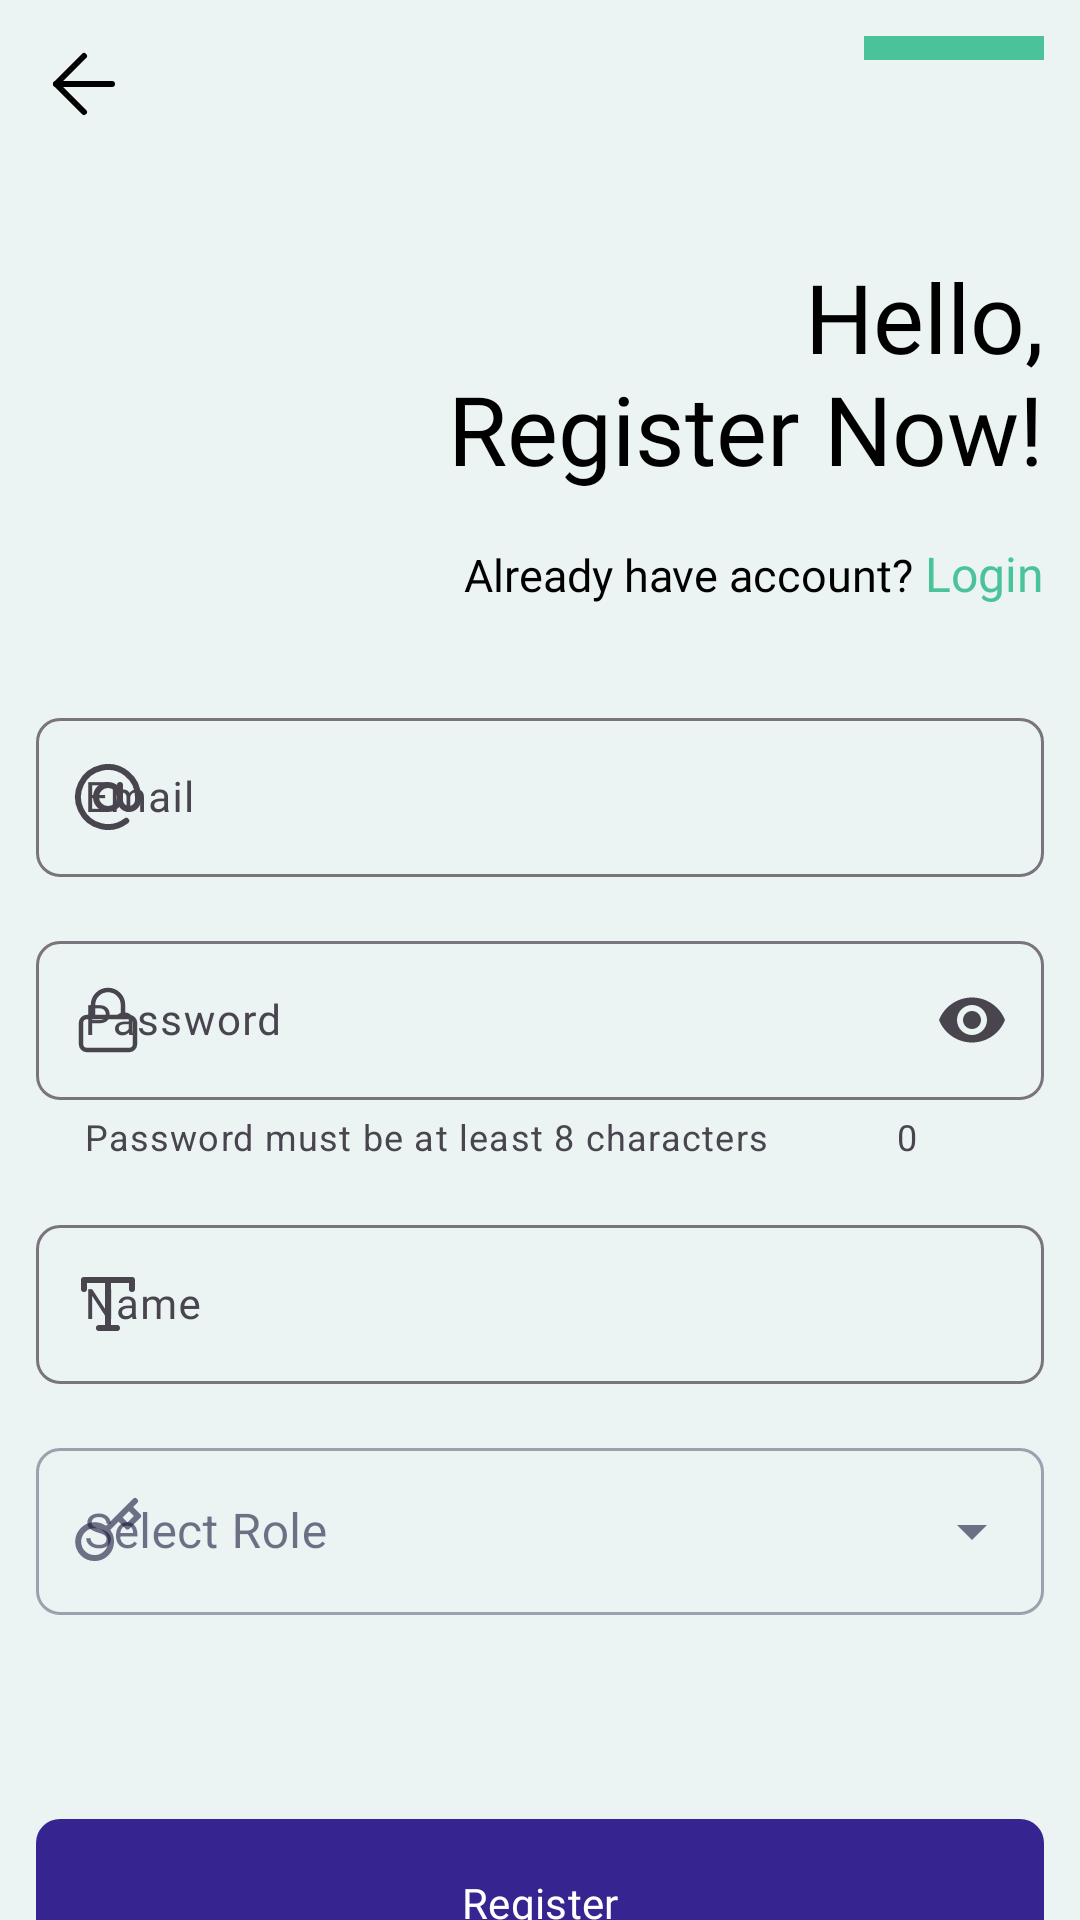

Point at icon controls on the screen. Image size 1080px×1920px, points as [x,y].
arrow left: [84,83]
